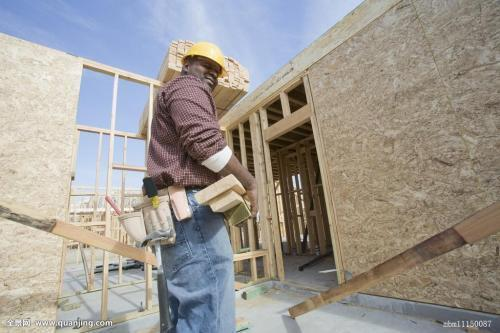helmet: (179, 41, 232, 79)
